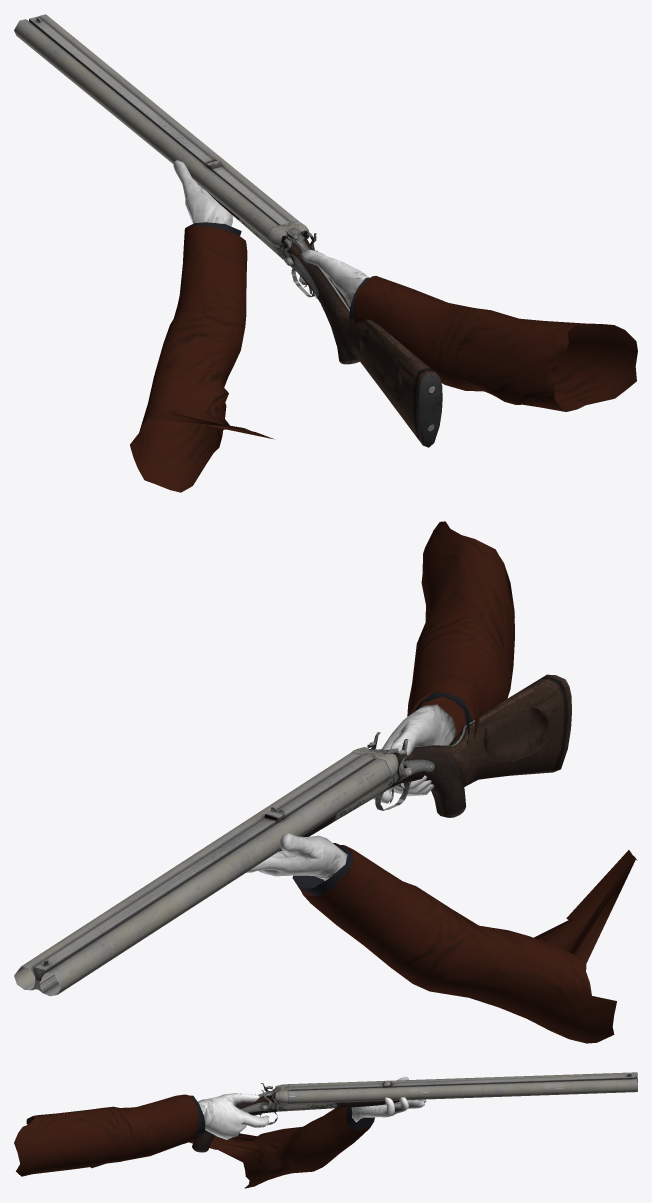
The model's file is frame_9.obj.
3 renders of one model, top to bottom at view 1: azimuth 30°, elevation 25°; view 2: azimuth 150°, elevation 25°; view 3: azimuth 270°, elevation 25°, orthographic. The views are drawn at different scales.
Parts seen in each view (by area): view 1: PlayerModelMerged.001_PlayerModelMerged, double_-_barreled_shotgun_L_double_-_barreled_shotgun_LP_к.001; view 2: PlayerModelMerged.001_PlayerModelMerged, double_-_barreled_shotgun_L_double_-_barreled_shotgun_LP_к.001; view 3: PlayerModelMerged.001_PlayerModelMerged, double_-_barreled_shotgun_L_double_-_barreled_shotgun_LP_к.001.
Boxes of the visible parts, x1,y1,x2,y2 form: PlayerModelMerged.001_PlayerModelMerged: (130, 160, 637, 492); double_-_barreled_shotgun_L_double_-_barreled_shotgun_LP_к.001: (14, 14, 442, 447); PlayerModelMerged.001_PlayerModelMerged: (246, 521, 637, 1043); double_-_barreled_shotgun_L_double_-_barreled_shotgun_LP_к.001: (14, 674, 571, 996); PlayerModelMerged.001_PlayerModelMerged: (14, 1076, 426, 1188); double_-_barreled_shotgun_L_double_-_barreled_shotgun_LP_к.001: (90, 1072, 637, 1168).
Size of the model in its own units: 0.8331 by 0.5667 by 2.
